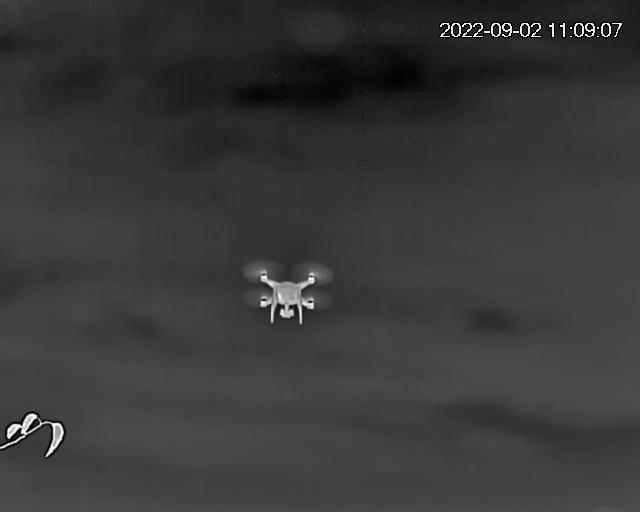DJI-Phantom: (241, 258, 331, 326)
